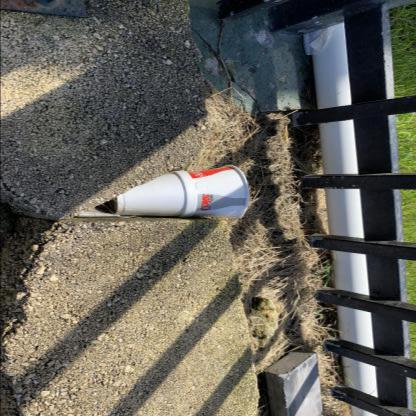Cup: (113, 170, 197, 217), (187, 165, 249, 220)
Plastic bag - wrapper: (77, 209, 120, 217)
Unlabeled litter: (303, 26, 335, 55)
